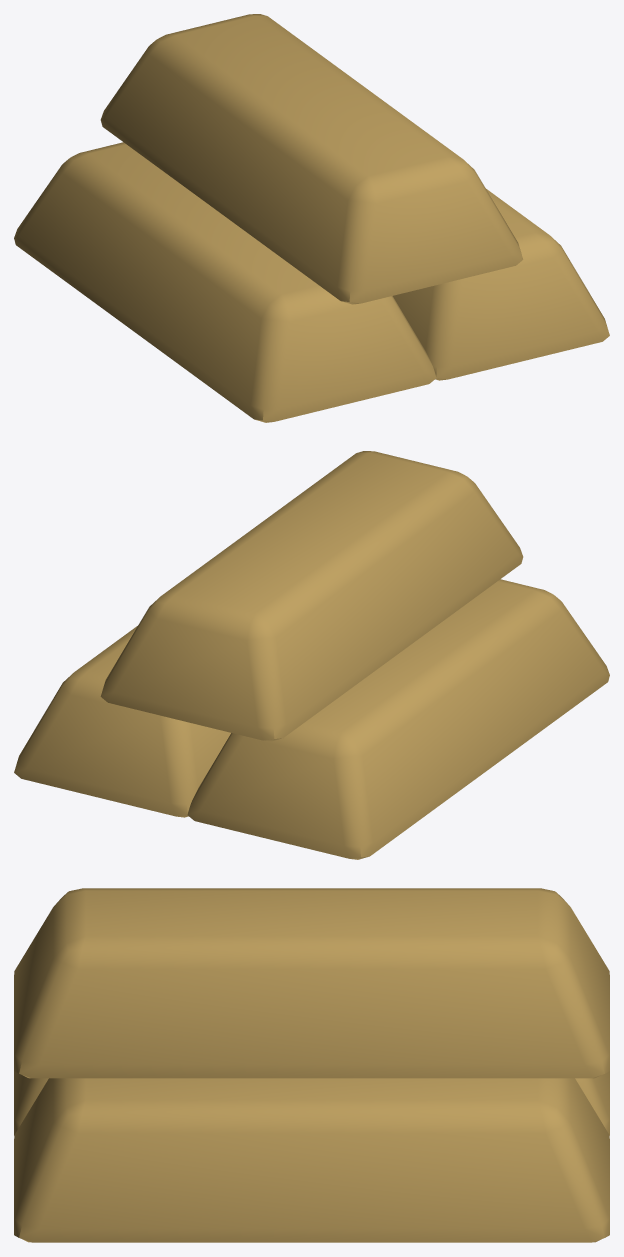
File: gold_bars.gltf.glb
3 renders of one model, top to bottom at view 1: azimuth 30°, elevation 25°; view 2: azimuth 150°, elevation 25°; view 3: azimuth 270°, elevation 25°, orthographic. The views are drawn at different scales.
Parts seen in each view (by area): view 1: gold_bars; view 2: gold_bars; view 3: gold_bars.
Part boxes in pixels (box(x1,y1,x2,y2)): gold_bars: box(14, 14, 609, 422); gold_bars: box(14, 451, 609, 859); gold_bars: box(14, 888, 609, 1242).
Bounding box in the file's own units: 0.5724 × 0.3056 × 0.7085.
